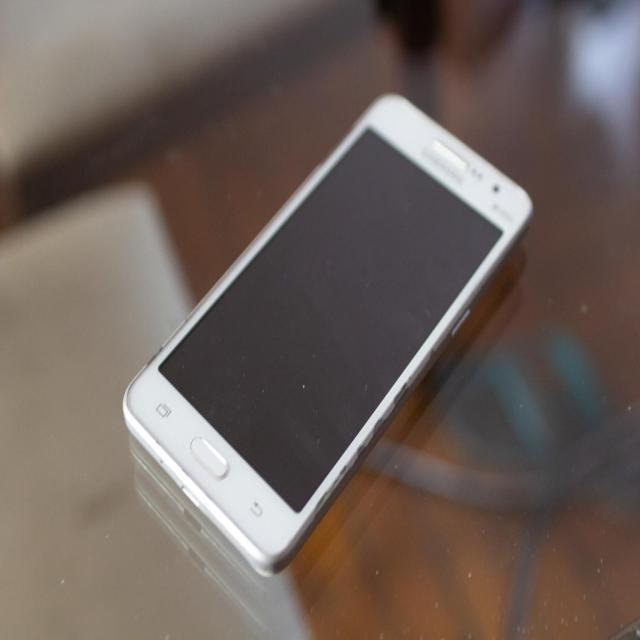Phone: (120, 87, 534, 581)
